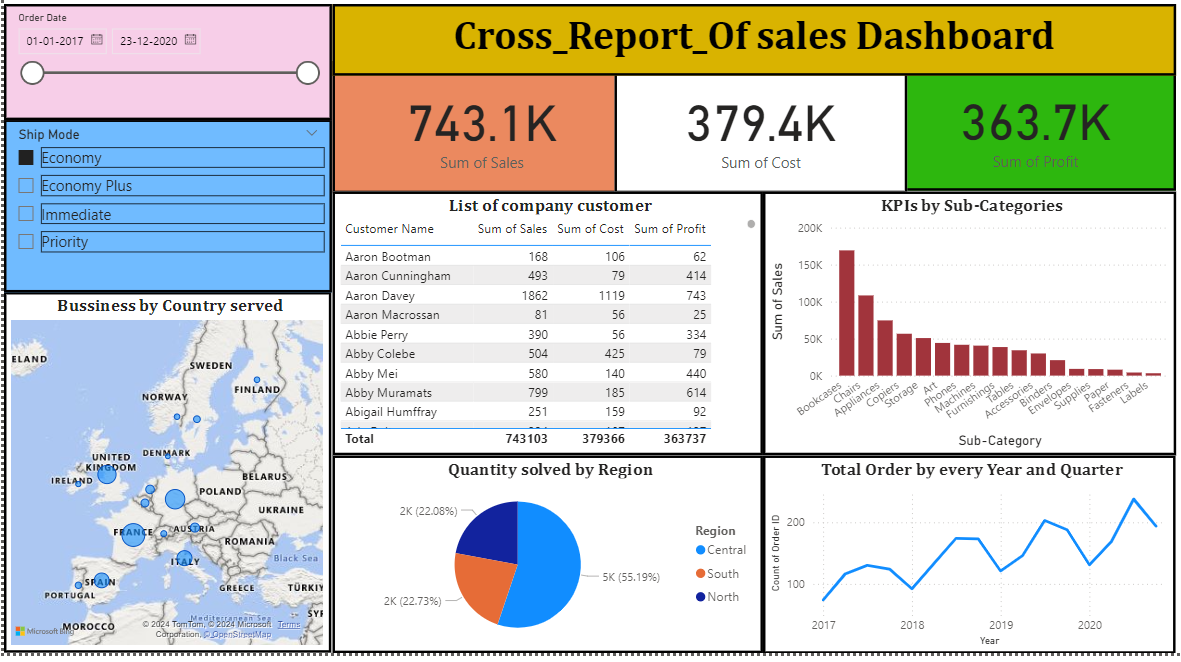

Layout of this report page (visuals, bound fields, positions):
{"tool":"powerbi","page":{"name":"Page 1","canvas":[1280,720],"ordinal":0},"visuals":[{"type":"card","fields":{"Values":["List of Orders.Sales"]},"box":[353.9,81.7,322.4,142.4],"z":0},{"type":"card","fields":{"Values":["List of Orders.Profit"]},"box":[961.1,81.7,303.6,140.3],"z":1000},{"type":"card","fields":{"Values":["List of Orders.Cost"]},"box":[659.5,81.7,316.2,142.4],"z":2000},{"type":"tableEx","fields":{"Values":["List of Orders.Customer Name","List of Orders.Sales","List of Orders.Cost","List of Orders.Profit"]},"box":[353.9,221.9,464.8,284.8],"z":3000},{"type":"clusteredColumnChart","fields":{"Category":["List of Orders.Sub-Category"],"Y":["List of Orders.Sales"]},"box":[818.7,221.9,446,284.8],"z":4000},{"type":"lineChart","fields":{"Y":["List of Orders.Order ID"],"Category":["List of Orders.Order Date.Variation.Date Hierarchy.Year","List of Orders.Order Date.Variation.Date Hierarchy.Quarter"]},"box":[818.7,506.7,446,213.6],"z":5000},{"type":"pieChart","fields":{"Y":["List of Orders.Quantity"],"Category":["List of Orders.Region"]},"box":[353.9,506.7,464.8,213.6],"z":6000},{"type":"map","fields":{"Category":["List of Orders.Country"],"Size":["List of Orders.Sales"]},"box":[0,330.7,353.4,389.3],"z":7000},{"type":"slicer","fields":{"Values":["List of Orders.Ship Mode"]},"box":[0,144.5,353.9,186.3],"z":8000},{"type":"slicer","fields":{"Values":["List of Orders.Order Date"]},"box":[0,18.8,353.9,125.6],"z":9000},{"type":"textbox","box":[353.9,18.8,910.8,77.5],"z":10000}]}

Visuals, with their boxes in screenshot pixels (x1, y1, x2, y2), scaled from the page's 1280x720 canvas onto the 1181x662 screenshot:
card - List of Orders.Sales: 327:75:624:206
card - List of Orders.Profit: 887:75:1167:204
card - List of Orders.Cost: 608:75:900:206
tableEx - List of Orders.Customer Name x List of Orders.Sales: 327:204:755:466
clusteredColumnChart - List of Orders.Sub-Category x List of Orders.Sales: 755:204:1167:466
lineChart - List of Orders.Order ID x List of Orders.Order Date.Variation.Date Hierarchy.Year: 755:466:1167:661
pieChart - List of Orders.Quantity x List of Orders.Region: 327:466:755:661
map - List of Orders.Country x List of Orders.Sales: 0:304:326:661
slicer - List of Orders.Ship Mode: 0:133:327:304
slicer - List of Orders.Order Date: 0:17:327:133
textbox: 327:17:1167:89
